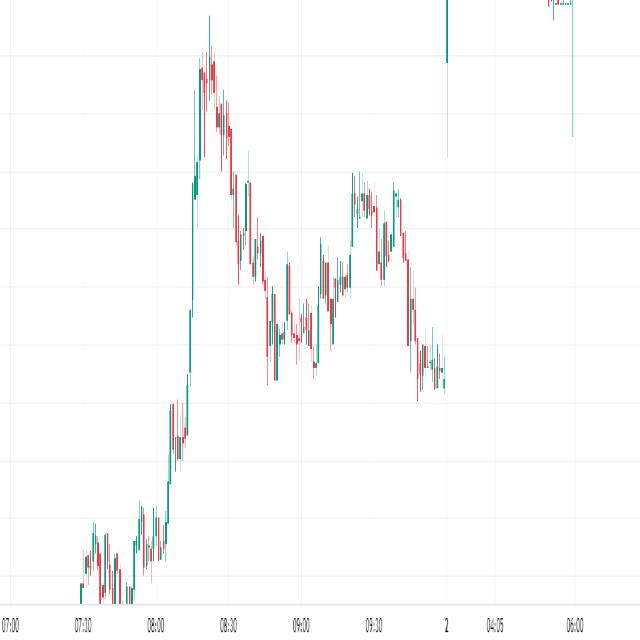Double-Top: (344, 155, 413, 330)
Rounding-Bottom: (224, 173, 367, 395)
